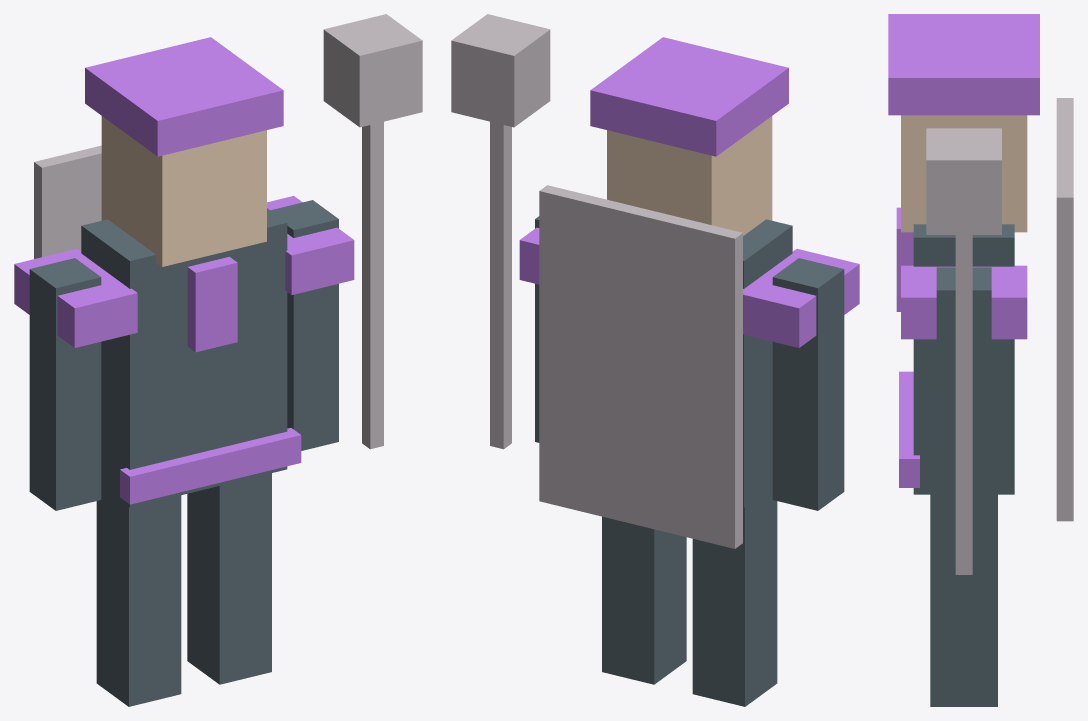
Rendered from 16_brant_tideforged_smith_from_observation.glb.
The picture shows the model from 3 angles, left to right: view 1: azimuth 30°, elevation 25°; view 2: azimuth 150°, elevation 25°; view 3: azimuth 270°, elevation 25°; orthographic projection. The views are drawn at different scales.
Parts seen in each view (by area): view 1: Brant Tideforged, Smith from Observation; view 2: Brant Tideforged, Smith from Observation; view 3: Brant Tideforged, Smith from Observation.
Boxes of the visible parts, x1=… form: Brant Tideforged, Smith from Observation: x1=14, y1=14, x2=422, y2=706; Brant Tideforged, Smith from Observation: x1=451, y1=14, x2=859, y2=706; Brant Tideforged, Smith from Observation: x1=888, y1=14, x2=1073, y2=706.
Size of the model in its own units: 1.02 by 1.61 by 0.4332.
